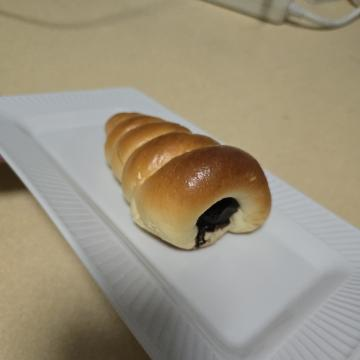cream horn: (99, 82, 268, 273)
